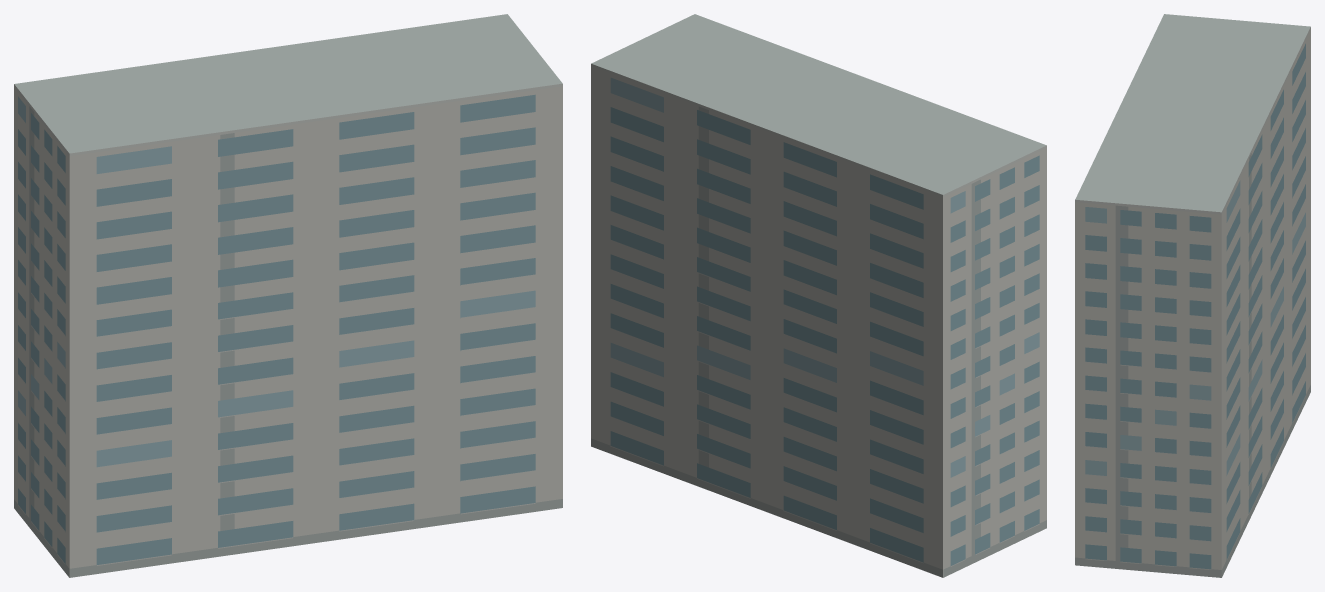
The model's file is residential-07d42c07-6ca9-4641-84c8-1bb2db7ffa13.glb.
The picture shows the model from 3 angles, left to right: view 1: azimuth 30°, elevation 25°; view 2: azimuth 150°, elevation 25°; view 3: azimuth 270°, elevation 25°; orthographic projection. The views are drawn at different scales.
Visible parts, largest first — view 1: residential-07d42c07-6ca9-4641-84c8-1bb2db7ffa13.tmp; view 2: residential-07d42c07-6ca9-4641-84c8-1bb2db7ffa13.tmp; view 3: residential-07d42c07-6ca9-4641-84c8-1bb2db7ffa13.tmp.
Boxes of the visible parts, <box> form: residential-07d42c07-6ca9-4641-84c8-1bb2db7ffa13.tmp: <box>14,14,562,577</box>; residential-07d42c07-6ca9-4641-84c8-1bb2db7ffa13.tmp: <box>591,14,1046,577</box>; residential-07d42c07-6ca9-4641-84c8-1bb2db7ffa13.tmp: <box>1075,14,1310,577</box>.
Bounding box in the file's own units: 43.04 × 37 × 21.63.
